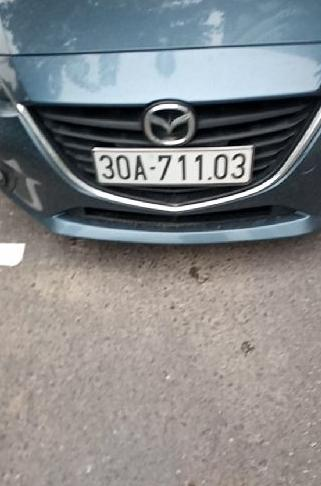Plate-iWeP: (93, 142, 256, 189)
